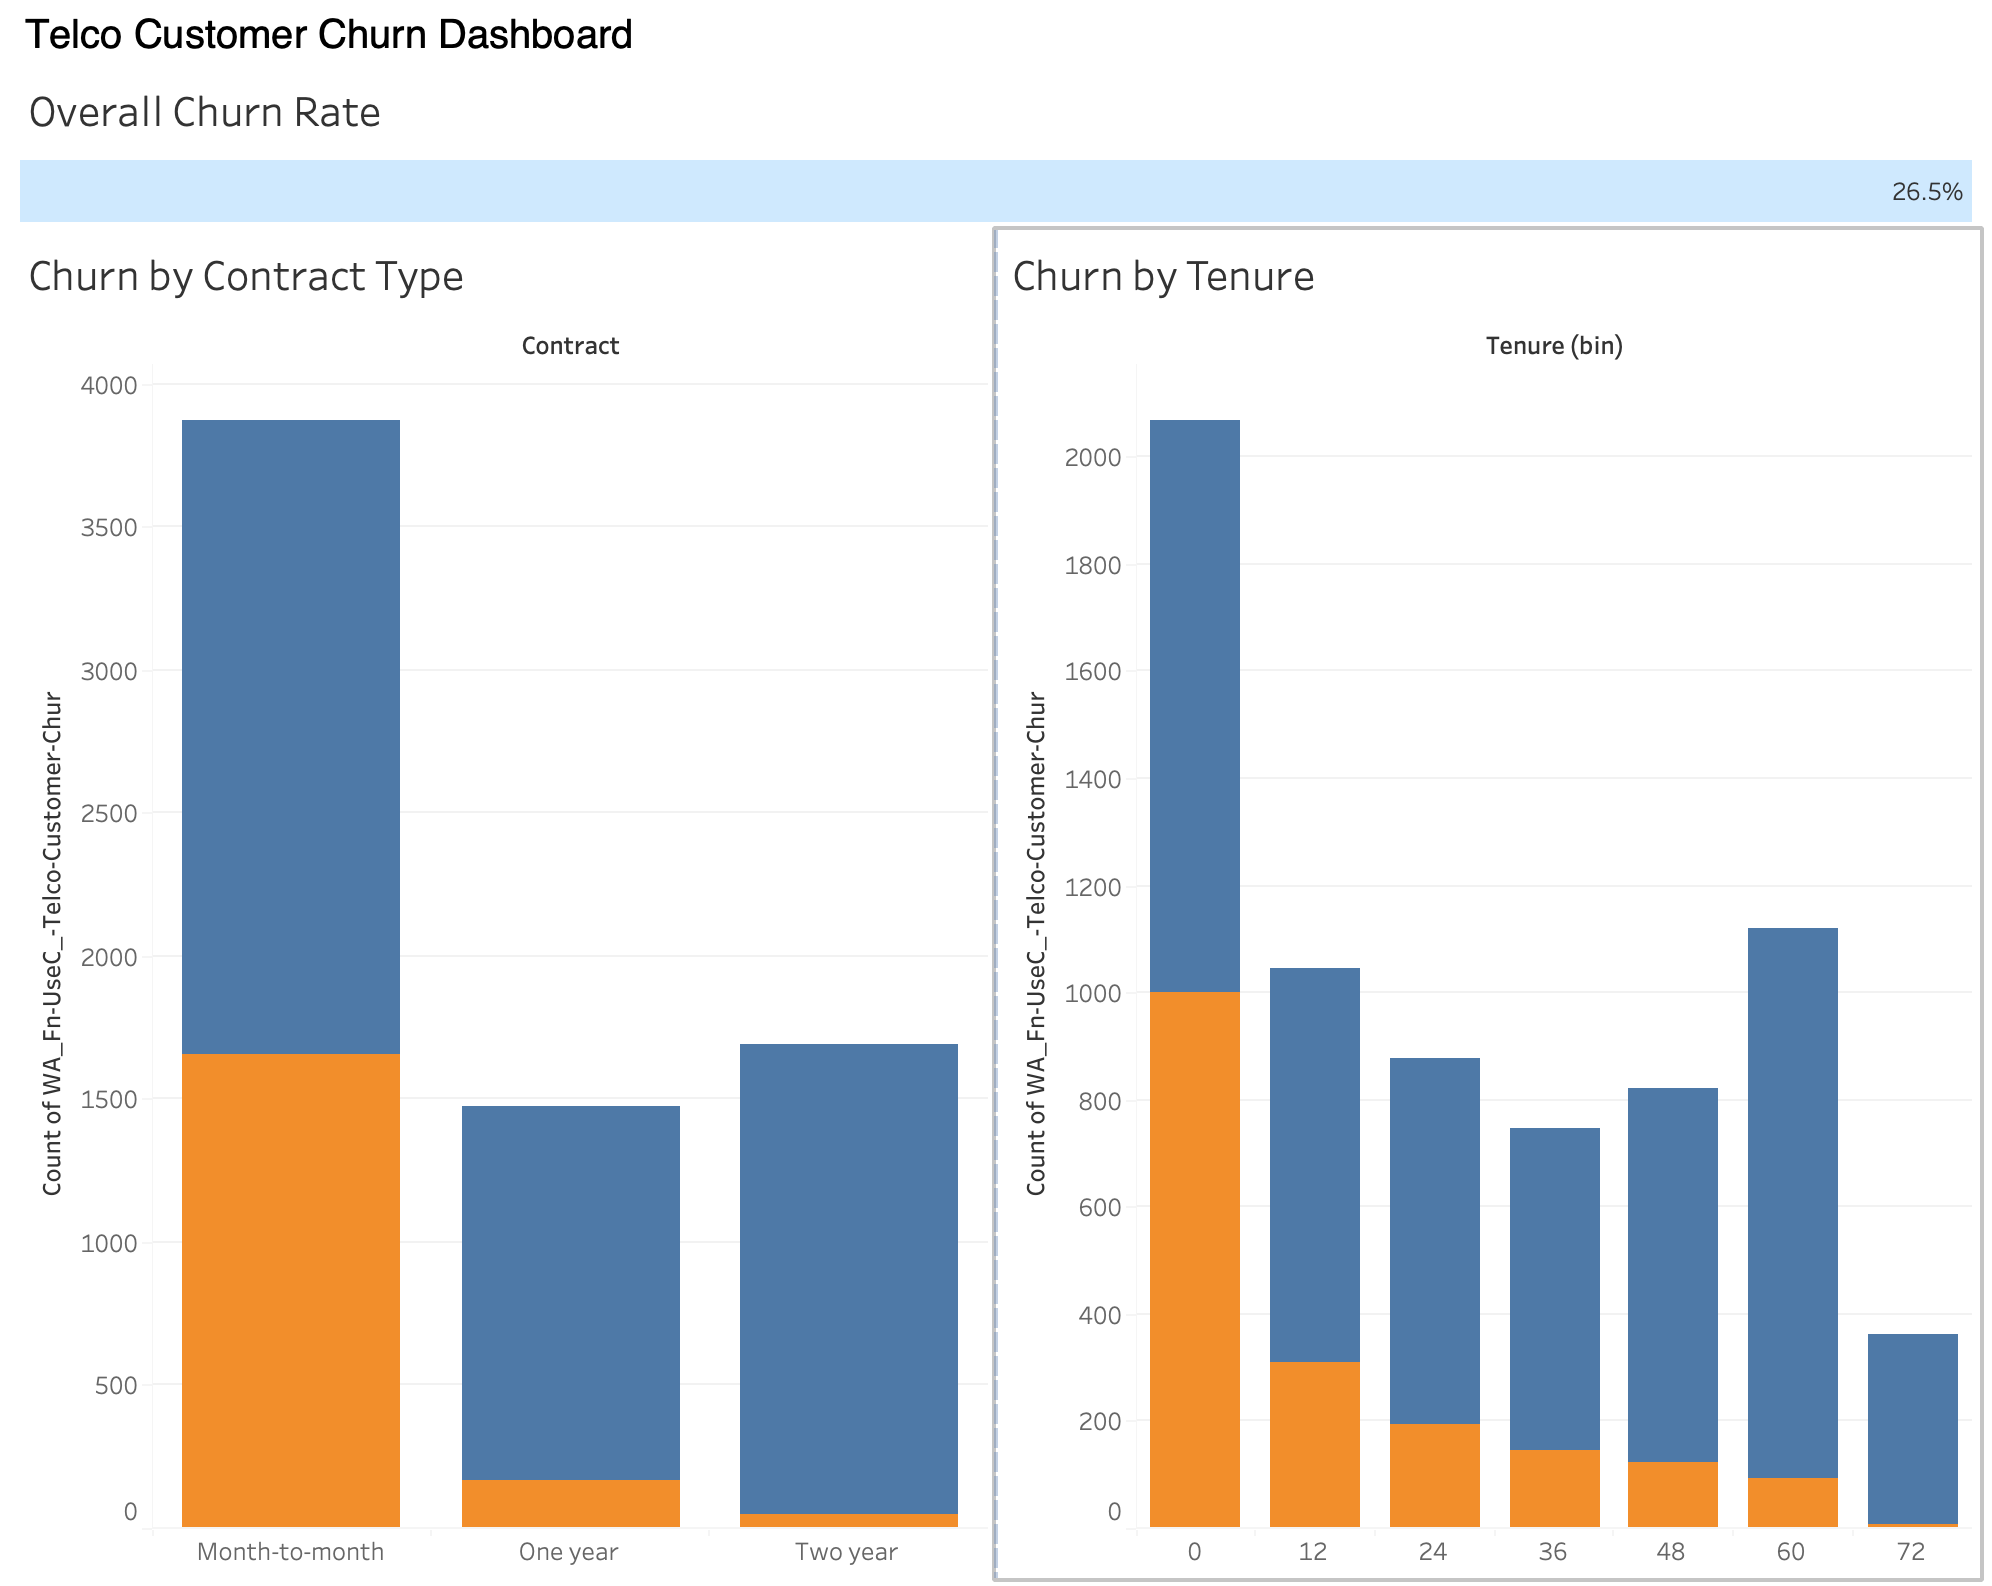

This screenshot's page, from the dashboard's own definition file:
{"tool":"tableau","page":{"name":"Dashboard 1","canvas":[1000,800],"ordinal":0},"visuals":[{"type":"worksheet","title":"Sheet 2","mark":"Automatic","rows":["Region","Sales","Profit"],"cols":["Sub-Category"],"box":[8,8,412,522.7]},{"type":"worksheet","title":"Sheet 1","mark":"Bar","rows":["Profit"],"cols":["Sub-Category"],"box":[420,8,412,522.7]},{"type":"legend","title":"Sheet 1","param":"[federated.0ngs13l1sb1y14104b4db1h1ur44].[:Measure Names]","box":[832,8,160,46]},{"type":"legend","title":"Sheet 2","param":"[federated.0ngs13l1sb1y14104b4db1h1ur44].[sum:Profit:qk]","box":[832,54,160,65]},{"type":"worksheet","title":"Sheet 3","mark":"Automatic","box":[8,530.7,412,261.3]},{"type":"worksheet","title":"Sheet 4","mark":"Bar","rows":["Sales"],"cols":["Discount"],"box":[420,530.7,412,261.3]}]}

Visuals, with their boxes in screenshot pixels (x1, y1, x2, y2), scaled from the page's 1000x800 canvas onto the 1992x1586 screenshot:
"Sheet 2" worksheet: x1=16, y1=16, x2=837, y2=1052
"Sheet 1" worksheet (Bar marks): x1=837, y1=16, x2=1657, y2=1052
"Sheet 1" legend: x1=1657, y1=16, x2=1976, y2=107
"Sheet 2" legend: x1=1657, y1=107, x2=1976, y2=236
"Sheet 3" worksheet: x1=16, y1=1052, x2=837, y2=1570
"Sheet 4" worksheet (Bar marks): x1=837, y1=1052, x2=1657, y2=1570
